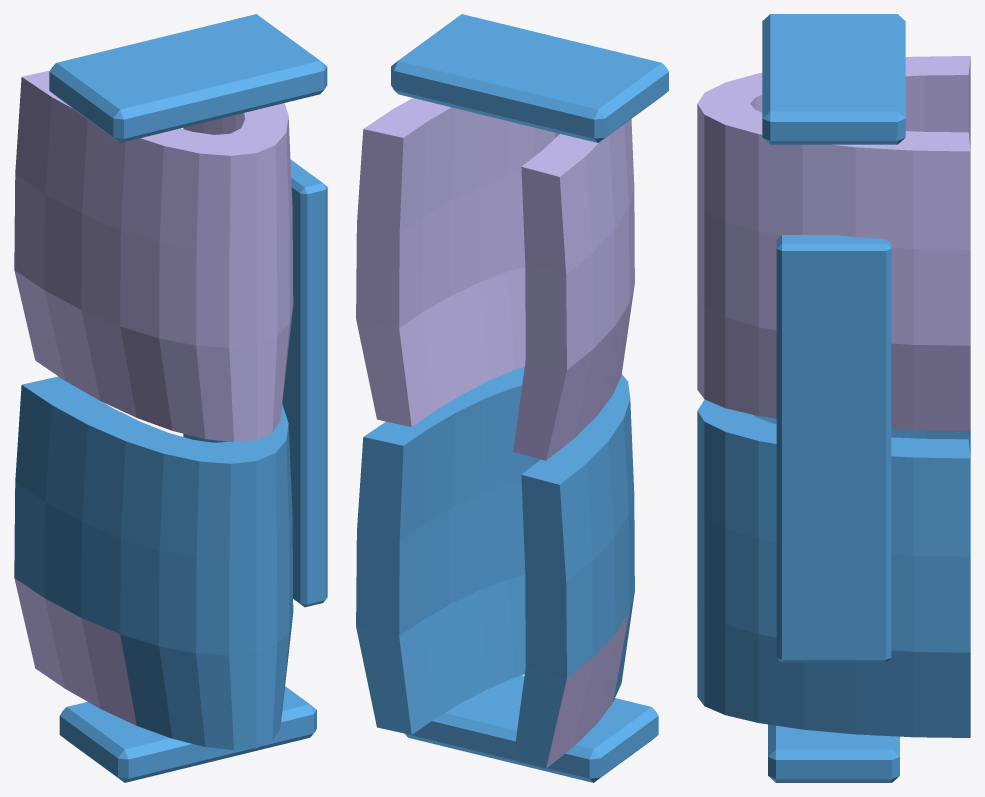
Rendered from left_upperarm.glb.
3 renders of one model, left to right at view 1: azimuth 30°, elevation 25°; view 2: azimuth 150°, elevation 25°; view 3: azimuth 270°, elevation 25°, orthographic.
Parts seen in each view (by area): view 1: armor_left_upperarm_v001; view 2: armor_left_upperarm_v001; view 3: armor_left_upperarm_v001.
Part boxes in pixels (box(x1,y1,x2,y2)): armor_left_upperarm_v001: box(14, 14, 327, 782); armor_left_upperarm_v001: box(356, 14, 668, 782); armor_left_upperarm_v001: box(697, 14, 970, 782).
Size of the model in its own units: 0.0963 by 0.283 by 0.1037.
